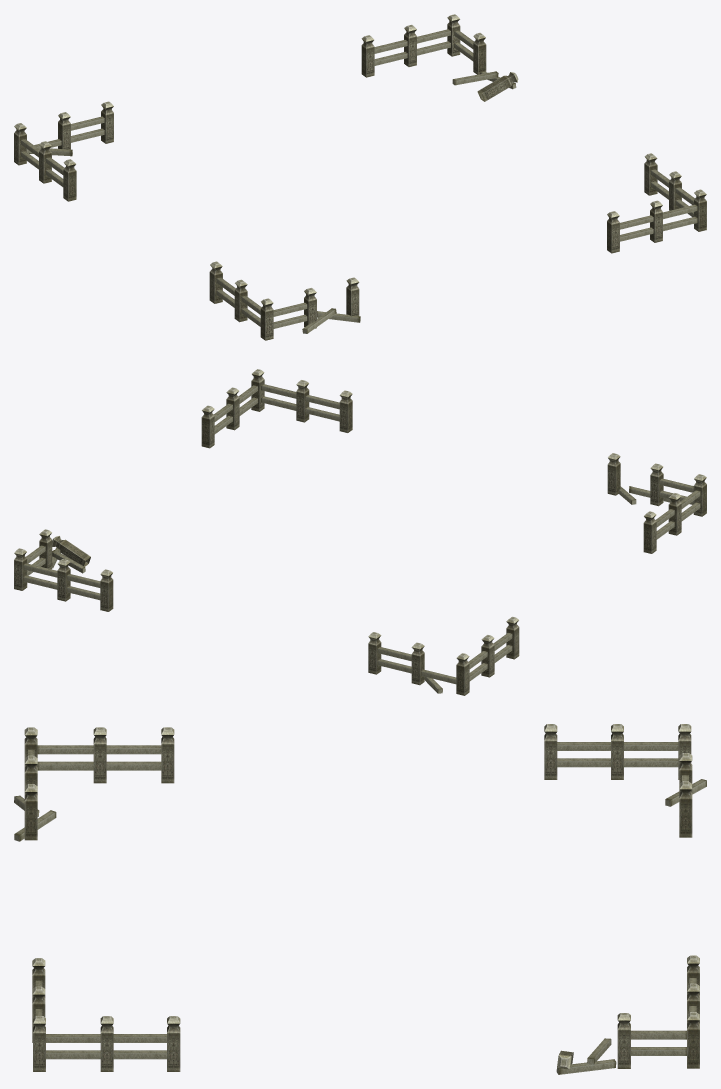
Rendered from shrine_11.fbx.
3 views of the same model, one above another, from view 1: azimuth 30°, elevation 25°; view 2: azimuth 150°, elevation 25°; view 3: azimuth 270°, elevation 25° (orthographic). The views are drawn at different scales.
Parts seen in each view (by area): view 1: Shrine_11; view 2: Shrine_11; view 3: Shrine_11.
Part boxes in pixels (x1,y1,x2,y2): Shrine_11: (14, 14, 706, 340); Shrine_11: (14, 369, 706, 695); Shrine_11: (14, 724, 706, 1074).
Bounding box in the file's own units: 22.08 × 2.16 × 21.43.
